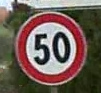limite 50: (13, 9, 88, 86)
